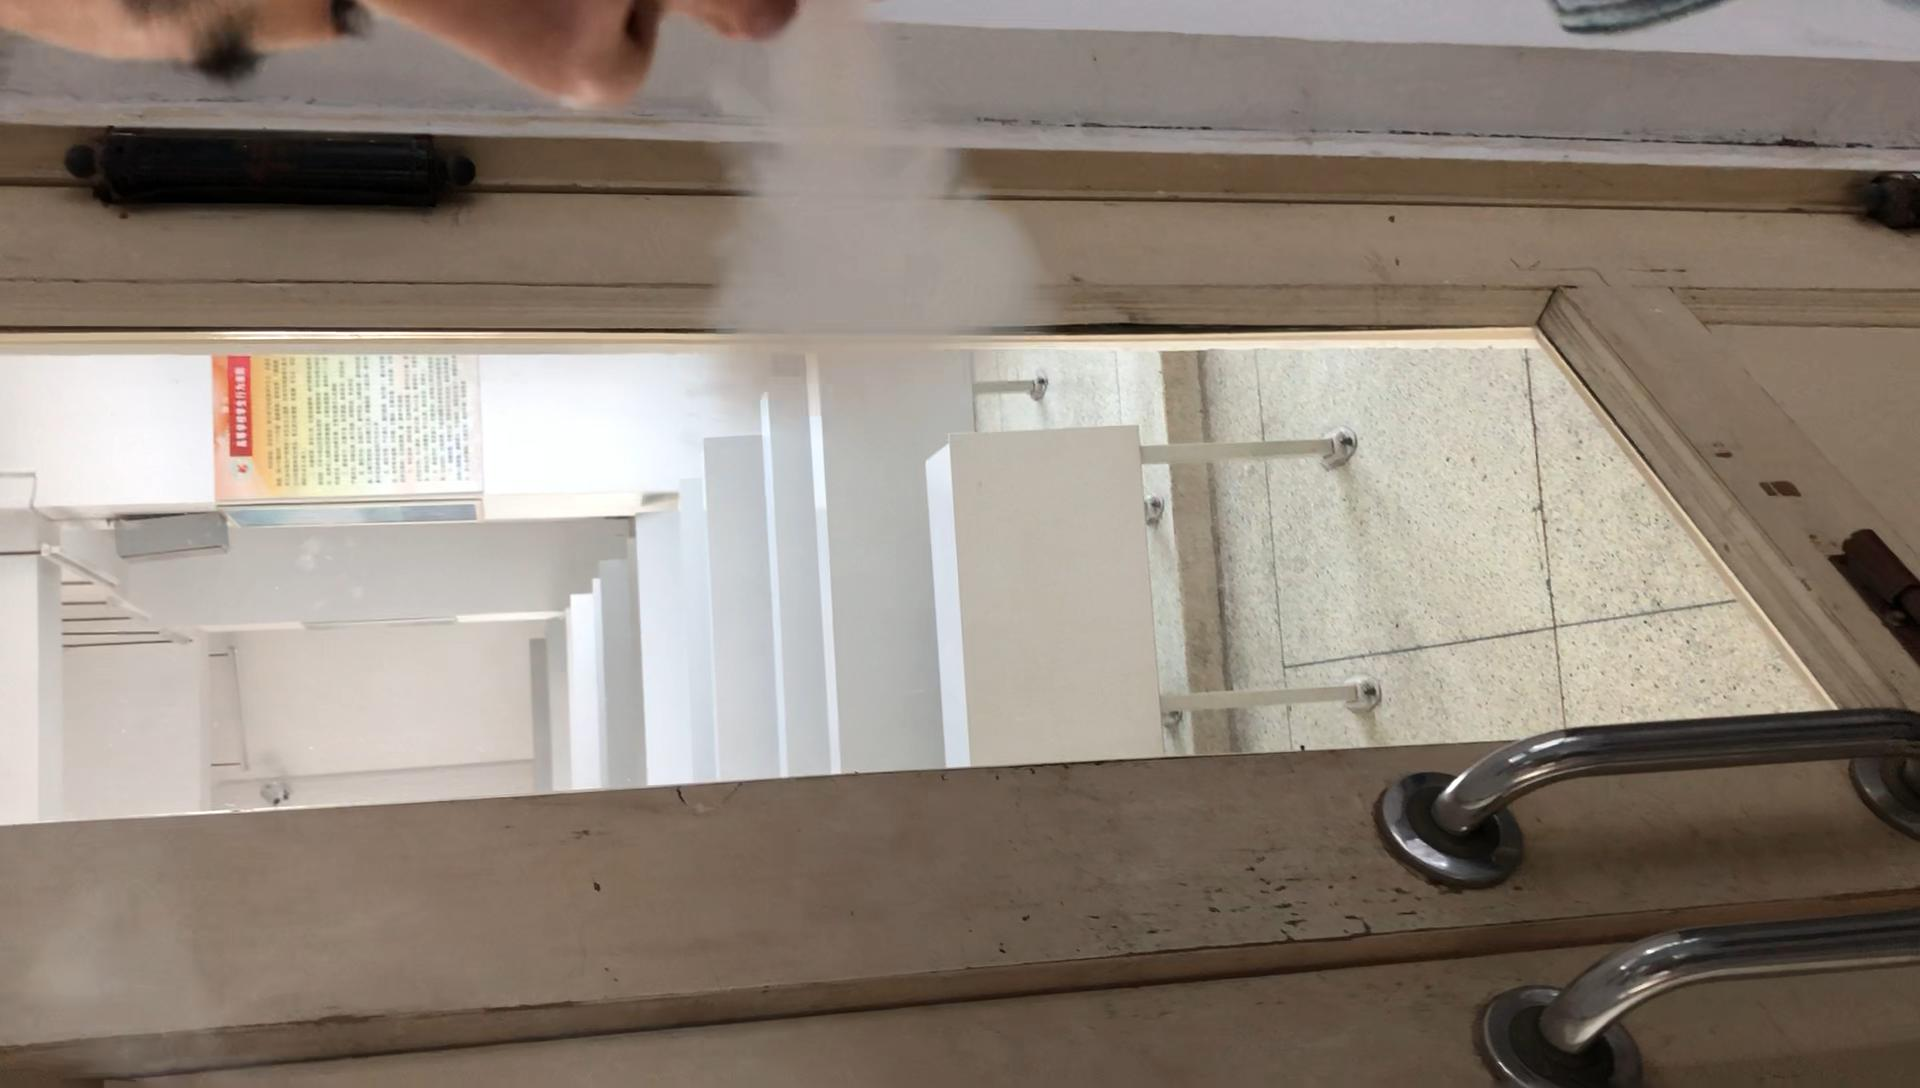yanwu: (704, 40, 1044, 473)
